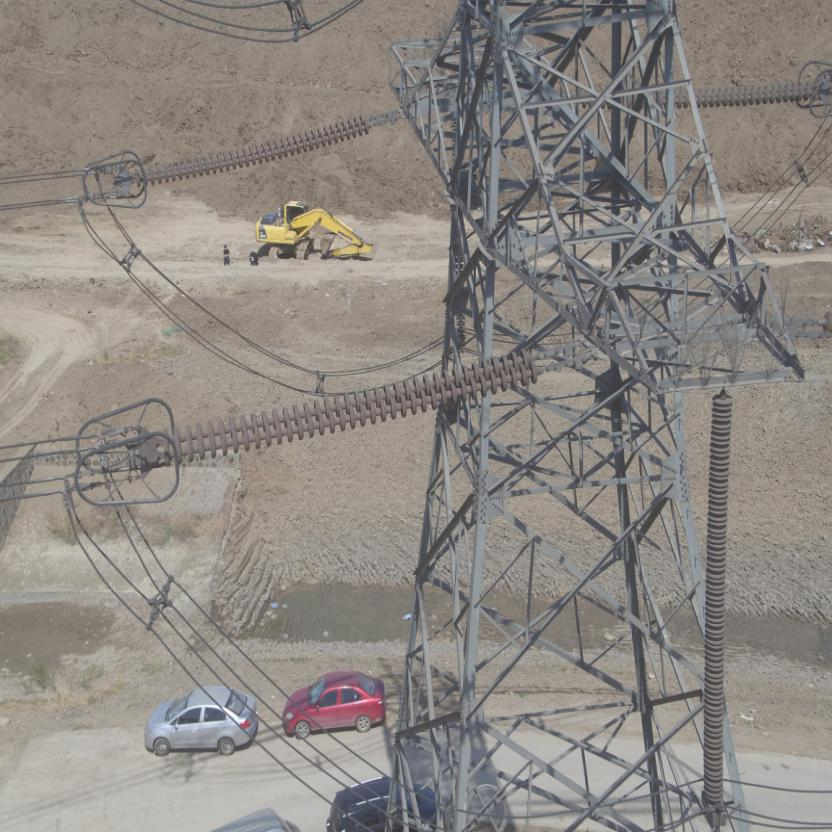insulator: (149, 341, 557, 469), (128, 110, 380, 187)
